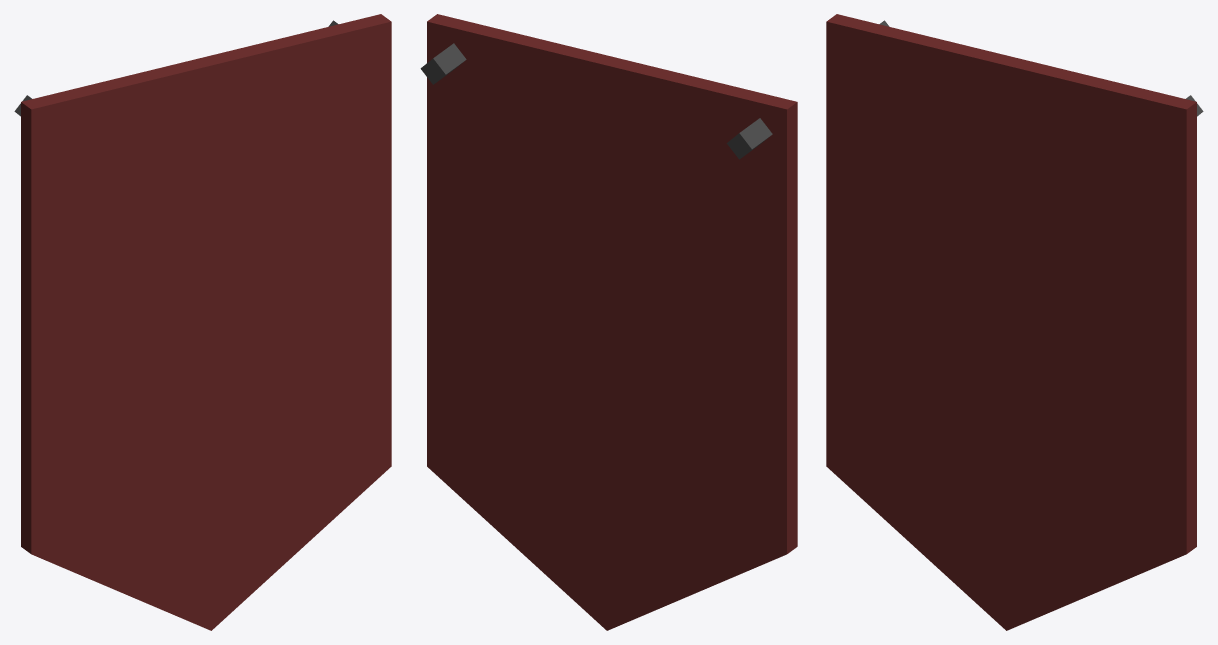
File: banner_wall_arrow.fbx
The picture shows the model from 3 angles, left to right: view 1: azimuth 30°, elevation 25°; view 2: azimuth 150°, elevation 25°; view 3: azimuth 330°, elevation 25°; orthographic projection.
Visible parts, largest first — view 1: banner.wall.arrow; view 2: banner.wall.arrow; view 3: banner.wall.arrow.
Boxes of the visible parts, bbox=[...] form: banner.wall.arrow: bbox=[14, 14, 391, 630]; banner.wall.arrow: bbox=[420, 14, 797, 630]; banner.wall.arrow: bbox=[826, 14, 1203, 630].
Bounding box in the file's own units: 200 × 300 × 30.
